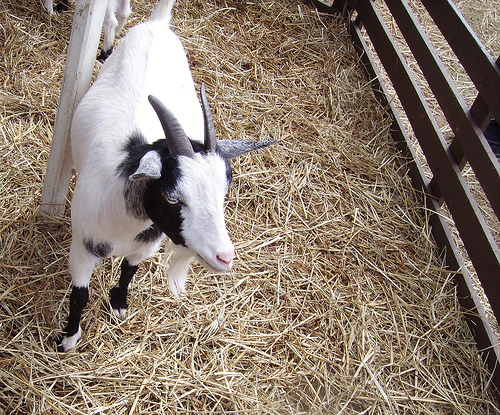goat: (58, 1, 278, 352)
